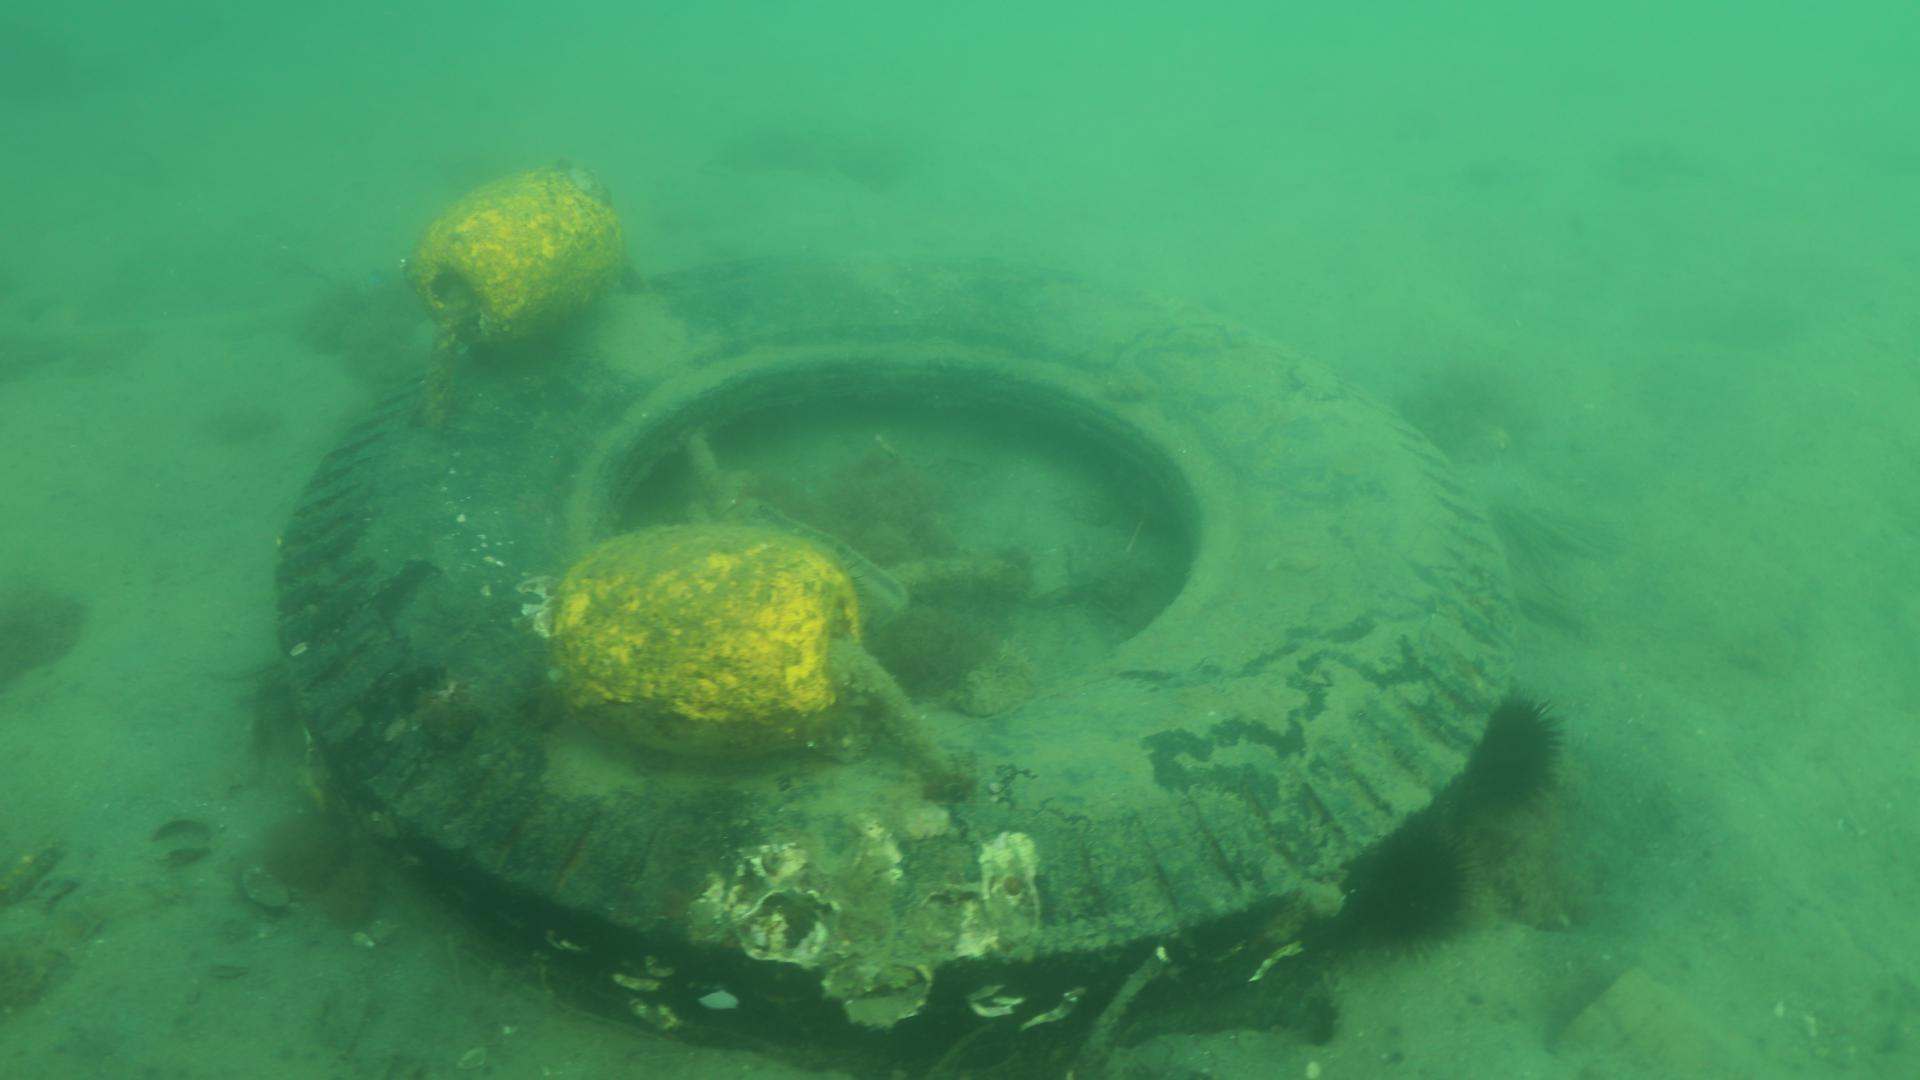bundle of ropes: (686, 433, 760, 524)
tire: (273, 248, 1519, 1069)
